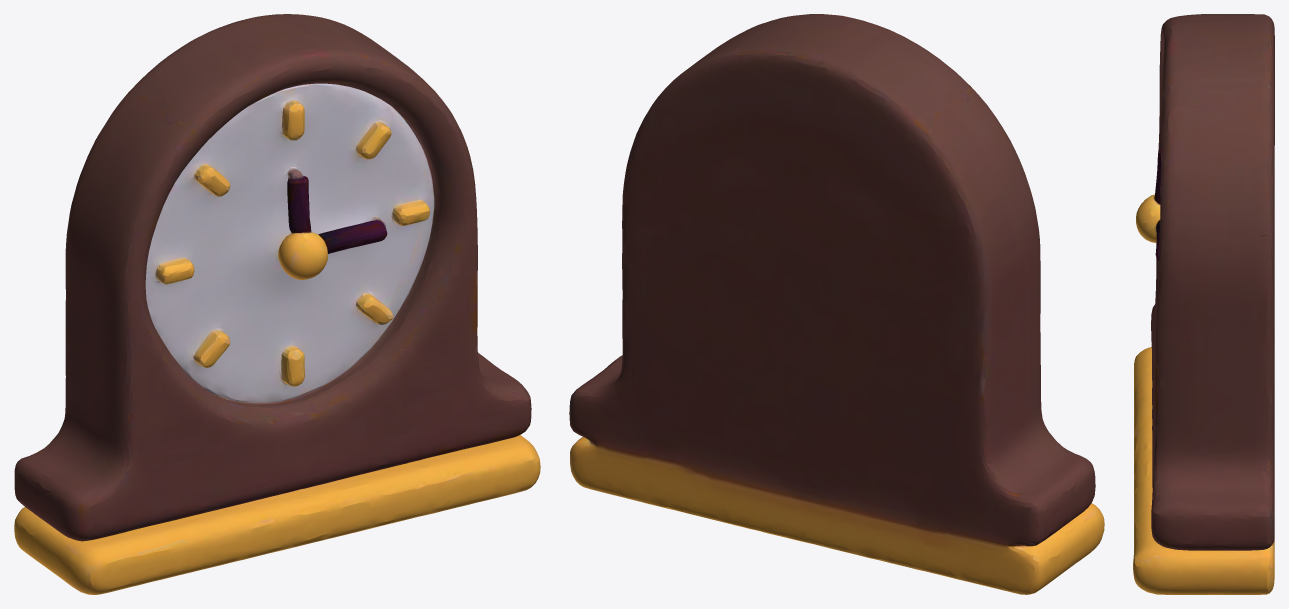
Rendered from mantel-clock.glb.
The picture shows the model from 3 angles, left to right: view 1: azimuth 30°, elevation 25°; view 2: azimuth 150°, elevation 25°; view 3: azimuth 270°, elevation 25°; orthographic projection. The views are drawn at different scales.
Parts seen in each view (by area): view 1: Mesh; view 2: Mesh; view 3: Mesh.
Boxes of the visible parts, bbox=[...] form: Mesh: bbox=[14, 14, 540, 594]; Mesh: bbox=[569, 14, 1104, 594]; Mesh: bbox=[1133, 14, 1274, 594].
Size of the model in its own units: 1 by 0.9858 by 0.2756.
1 material, 1 textured.
